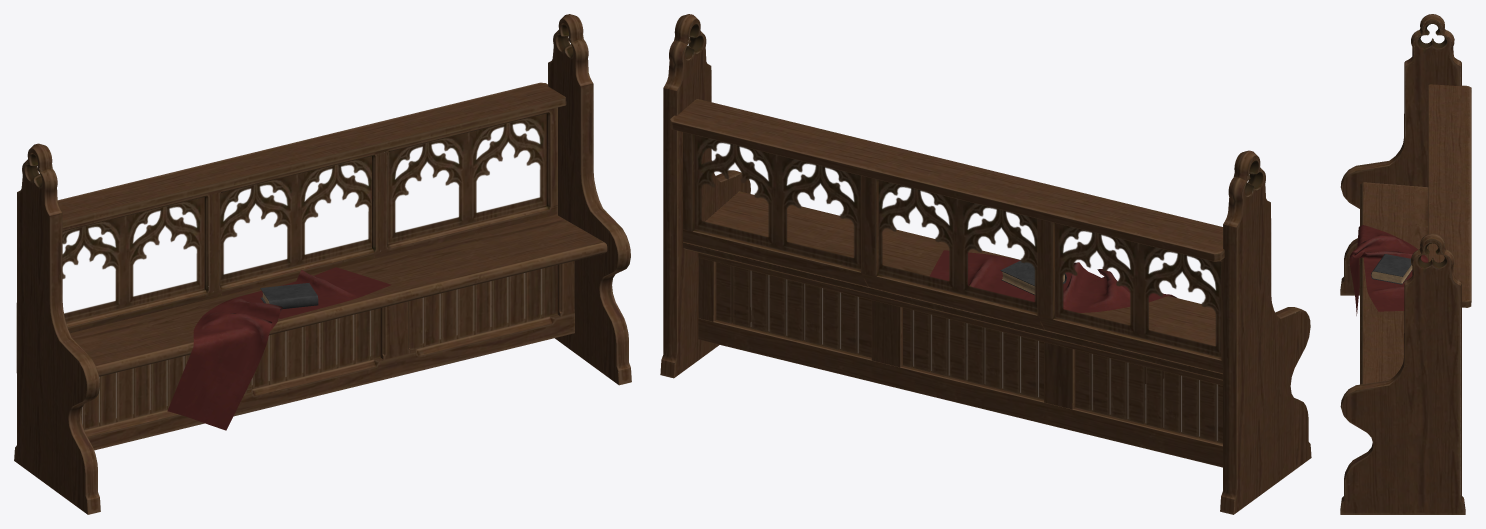
Rendered from pew.glb.
3 renders of one model, left to right at view 1: azimuth 30°, elevation 25°; view 2: azimuth 150°, elevation 25°; view 3: azimuth 270°, elevation 25°, orthographic. The views are drawn at different scales.
Visible parts, largest first — view 1: Bench, scarf:Mesh, cover004 group1; view 2: Bench, scarf:Mesh; view 3: Bench, scarf:Mesh, cover004 group1, group1 Paper004.
Boxes of the visible parts, x1,y1,x2,y2 form: Bench: (14, 14, 631, 514); scarf:Mesh: (167, 267, 391, 430); cover004 group1: (260, 283, 318, 309); Bench: (660, 14, 1311, 514); scarf:Mesh: (929, 250, 1176, 312); Bench: (1340, 14, 1471, 514); scarf:Mesh: (1349, 225, 1428, 315); cover004 group1: (1371, 254, 1411, 284); group1 Paper004: (1371, 265, 1412, 283).
Bounding box in the file's own units: 1.95 × 1.13 × 0.4825.
Materials: 4 (4 with a texture image).
